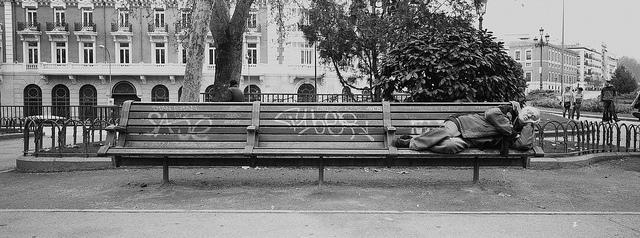bicycle: (608, 107, 612, 124)
